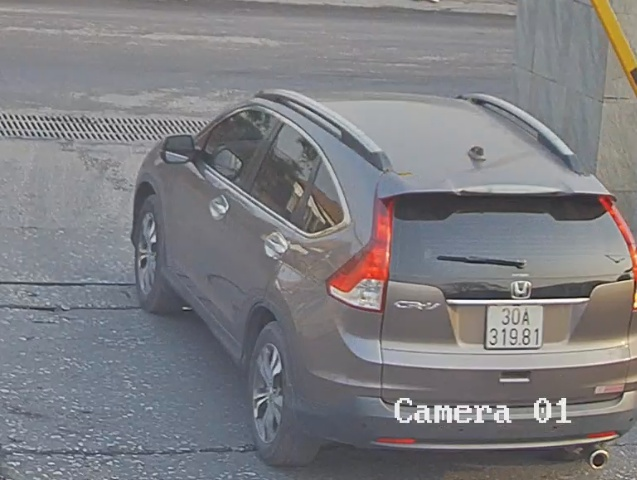vehicle plate: (485, 301, 543, 349)
